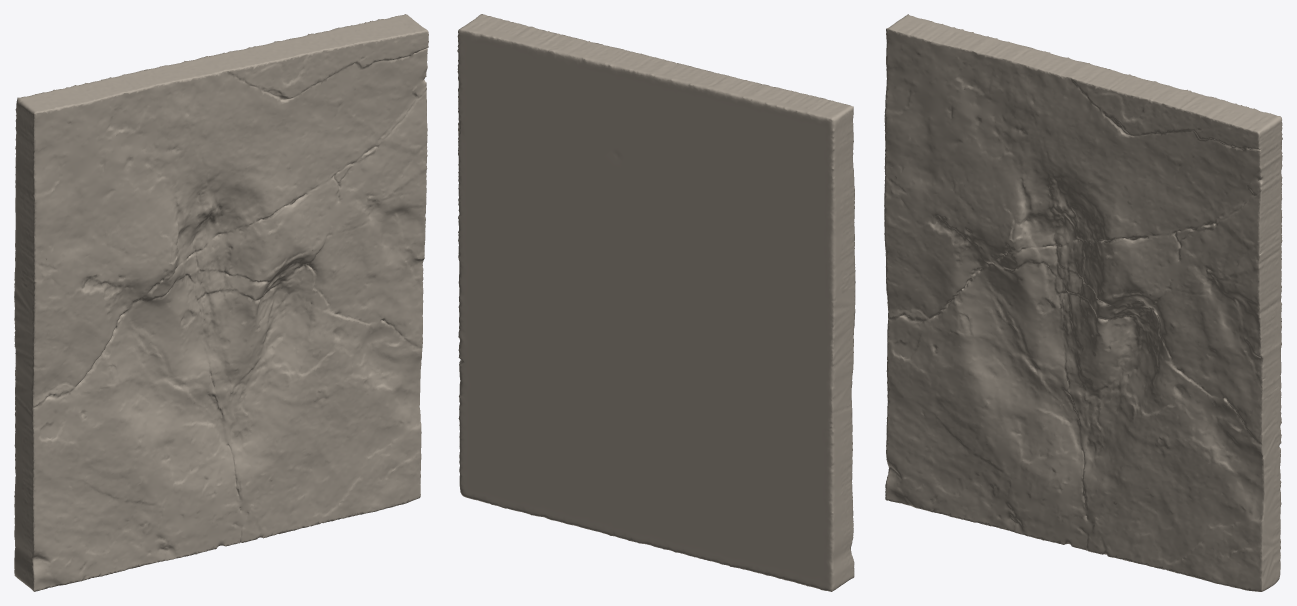
The picture shows the model from 3 angles, left to right: view 1: azimuth 30°, elevation 25°; view 2: azimuth 150°, elevation 25°; view 3: azimuth 330°, elevation 25°; orthographic projection.
Parts seen in each view (by area): view 1: specimen; view 2: specimen; view 3: specimen.
Part boxes in pixels (x1,y1,x2,y2): specimen: [14, 14, 428, 591]; specimen: [457, 14, 855, 591]; specimen: [884, 14, 1282, 591].
Bounding box in the file's own units: 0.3742 × 0.442 × 0.0484.
